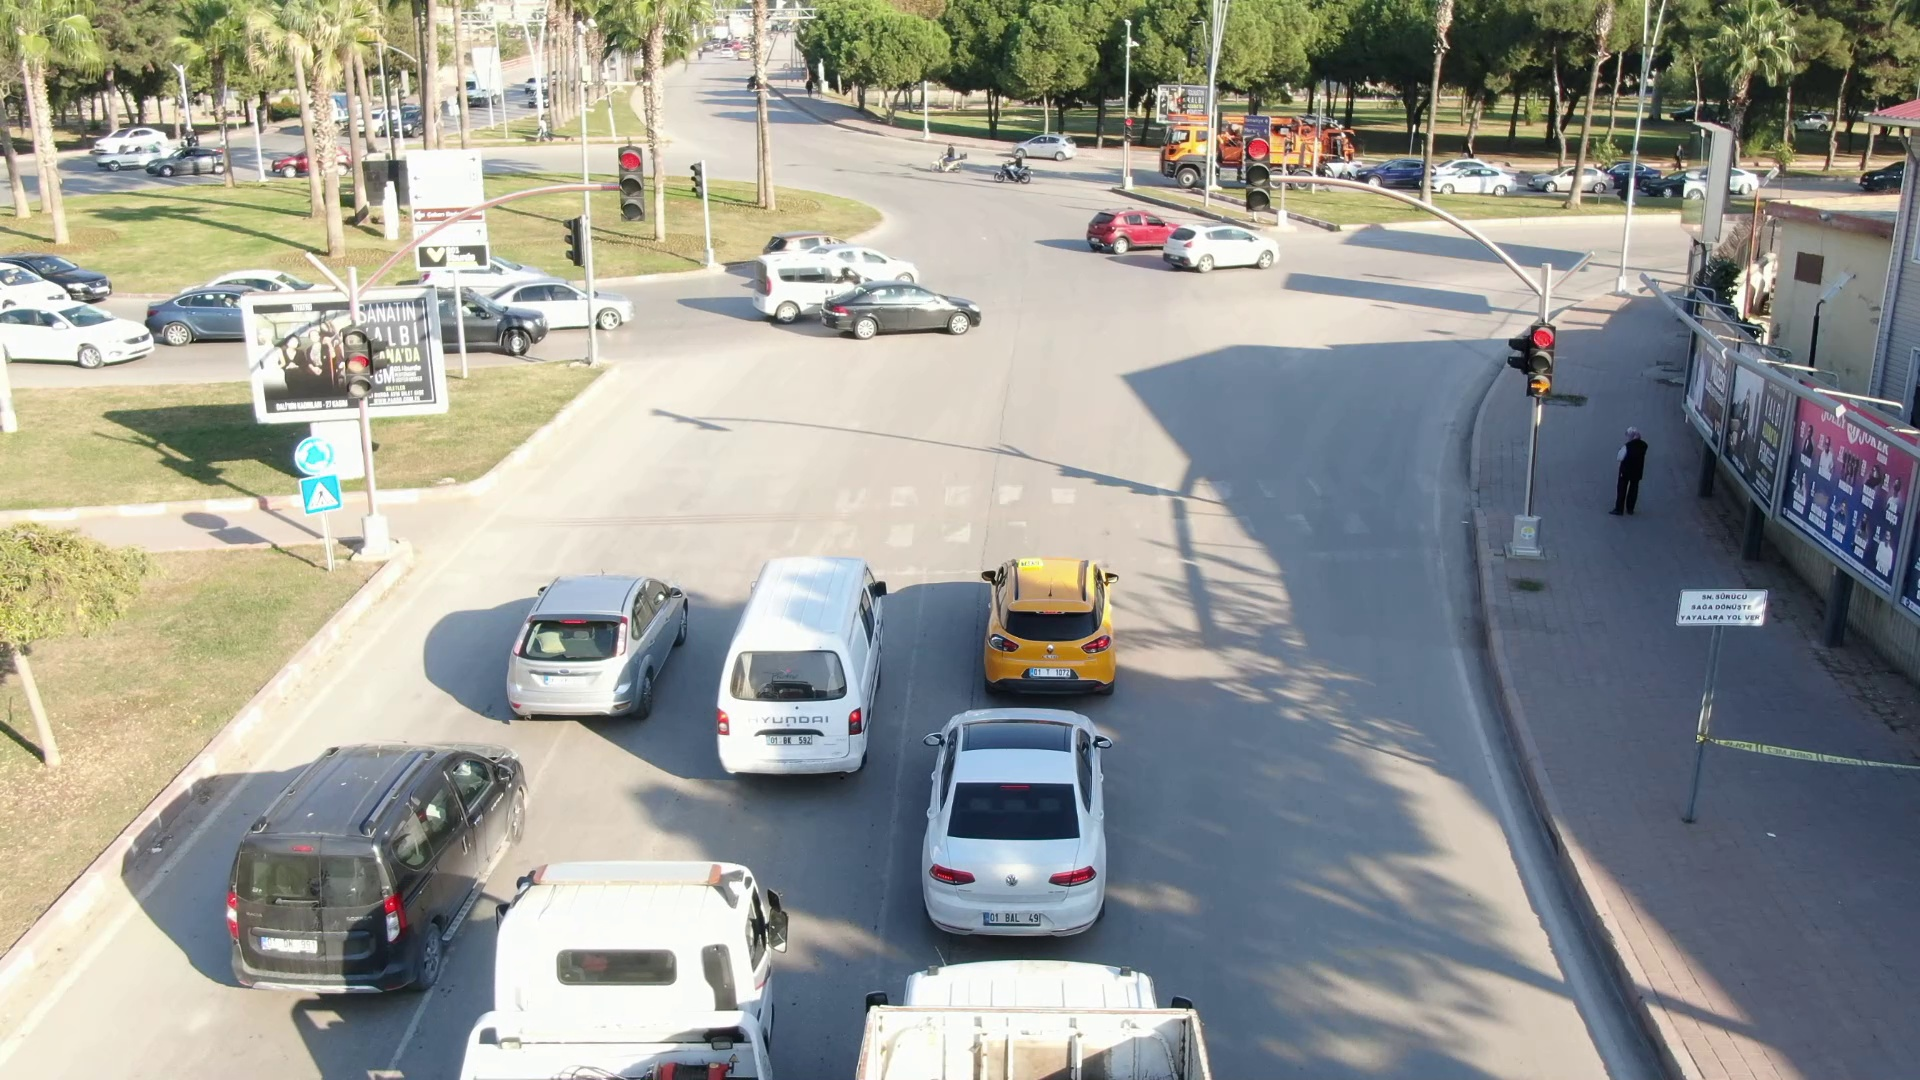car: (222, 735, 530, 996), (915, 700, 1117, 947), (715, 553, 890, 783), (502, 574, 688, 719), (978, 555, 1122, 695), (1, 291, 156, 372), (489, 278, 638, 342), (822, 284, 981, 338), (1158, 222, 1280, 278), (1081, 204, 1182, 258), (1526, 160, 1619, 200), (1427, 161, 1518, 199), (141, 144, 229, 181), (1007, 127, 1083, 161)
